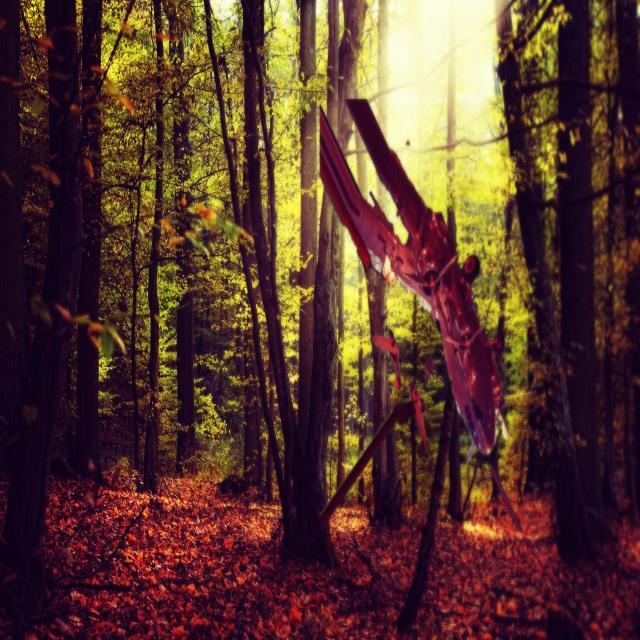airplane: (318, 96, 522, 532)
